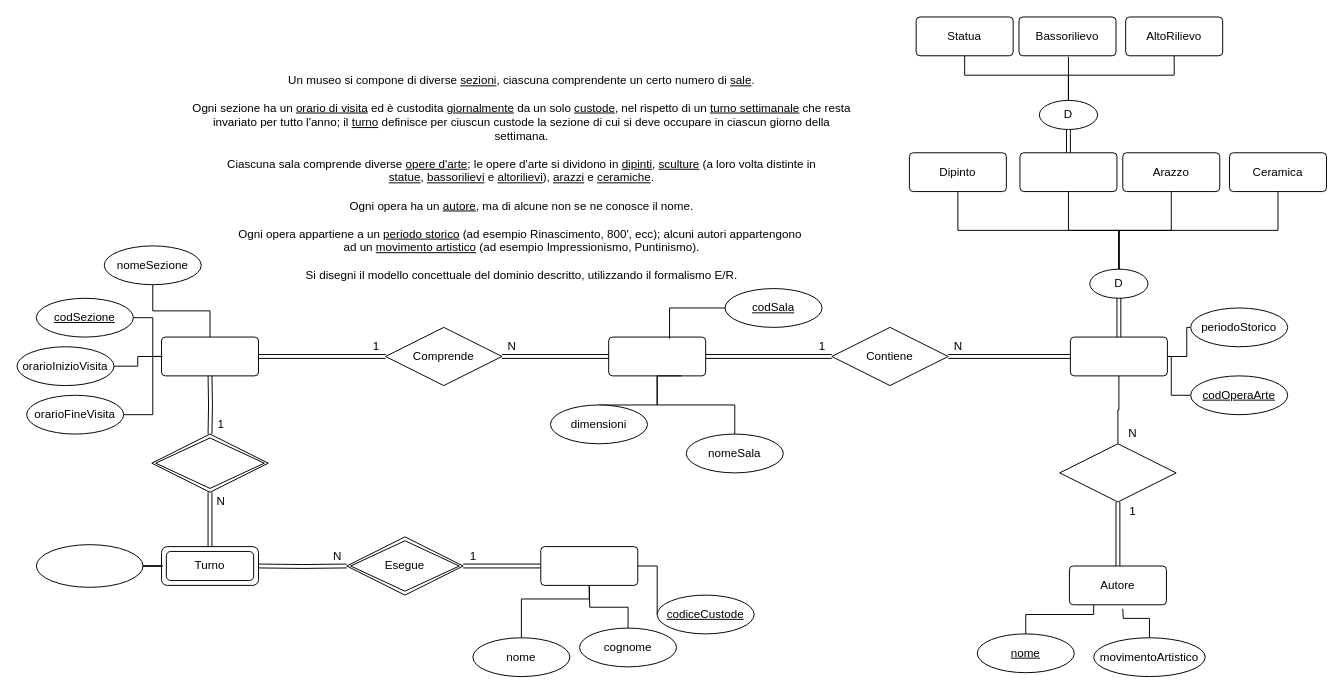
The diagram is 1343 pixels wide and 694 high, and some of its shapes have lost their labels. Here are the shapes that lost their labels. From the top down, the centre of each, then its label:
At (1068,172): "Scultura".
At (210,356): "Sezione".
At (657,356): "Sala".
At (1118,356): "opera d'arte".
At (209,462): "CustoditaIn".
At (1117,472): "CreataDa".
At (89,565): "giornoSettimana".
At (589,565): "Custode".
